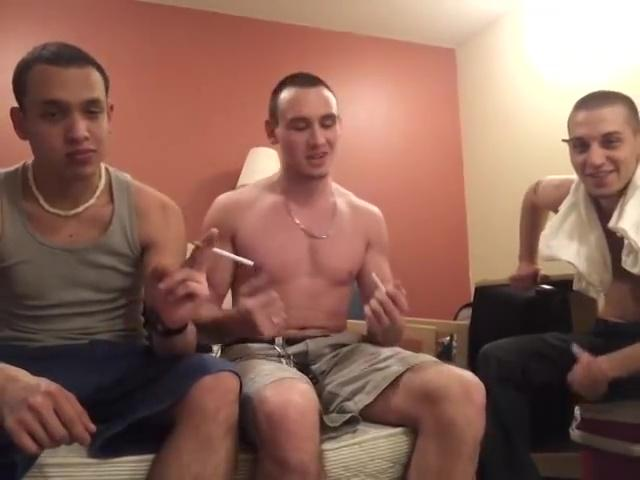cigarette: (191, 236, 254, 268), (371, 268, 387, 295)
